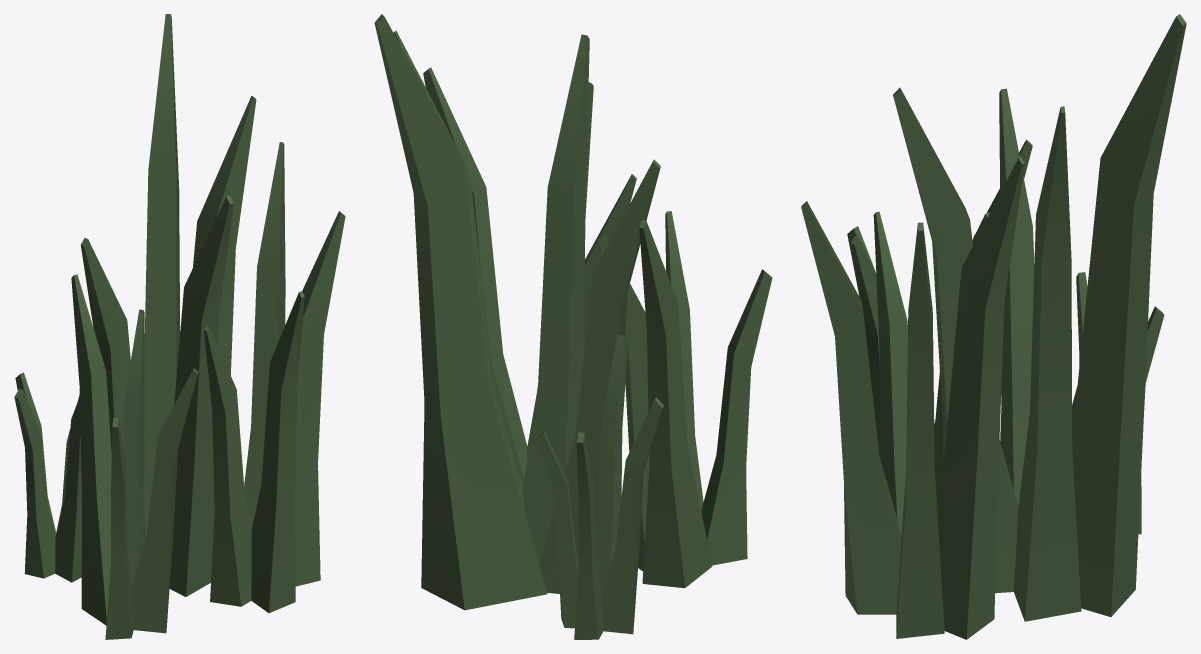
File: Grass_Mesh.fbx
The picture shows the model from 3 angles, left to right: view 1: azimuth 30°, elevation 25°; view 2: azimuth 150°, elevation 25°; view 3: azimuth 270°, elevation 25°; orthographic projection. The views are drawn at different scales.
Visible parts, largest first — view 1: Grass_Mesh; view 2: Grass_Mesh; view 3: Grass_Mesh.
Boxes of the visible parts, x1,y1,x2,y2 form: Grass_Mesh: (14,14,345,639); Grass_Mesh: (374,14,772,639); Grass_Mesh: (801,14,1186,639).
Size of the model in its own units: 19.55 by 34.97 by 20.2.
